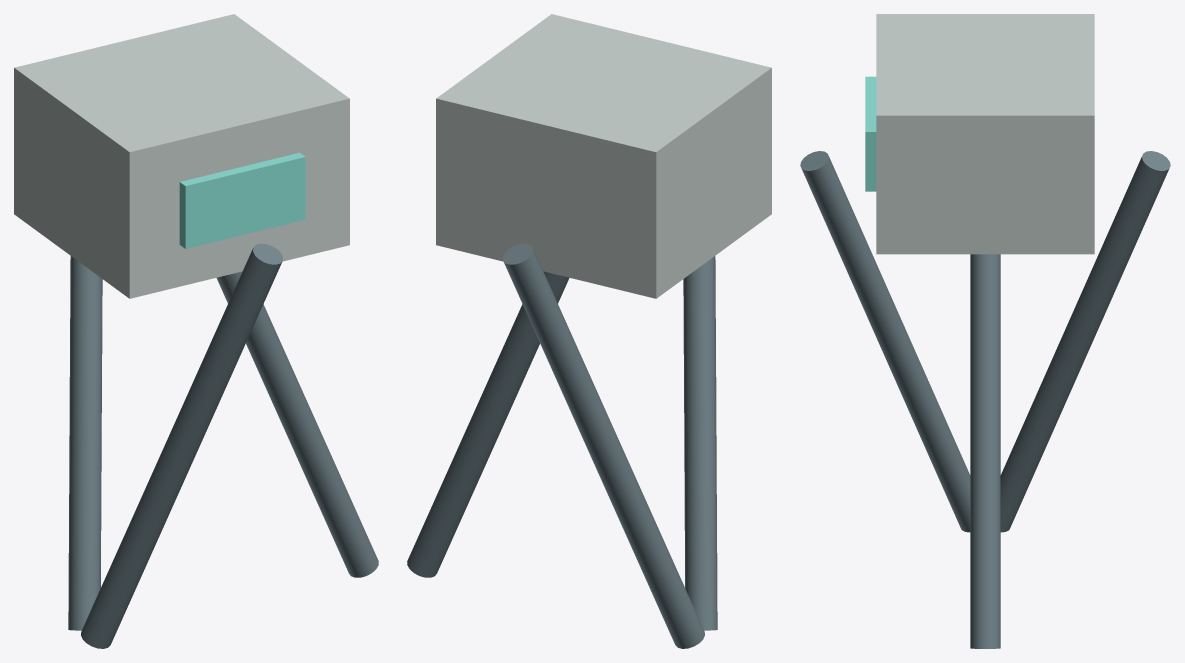
The model's file is field-probe.glb.
The picture shows the model from 3 angles, left to right: view 1: azimuth 30°, elevation 25°; view 2: azimuth 150°, elevation 25°; view 3: azimuth 270°, elevation 25°; orthographic projection. The views are drawn at different scales.
Visible parts, largest first — view 1: sensor_head, leg (×3), sensor_window; view 2: sensor_head, leg (×3); view 3: sensor_head, leg (×3), sensor_window.
Boxes of the visible parts, bbox=[...] form: sensor_head: bbox=[14, 14, 349, 298]; leg (×3): bbox=[68, 243, 378, 648]; sensor_window: bbox=[179, 152, 305, 248]; sensor_head: bbox=[436, 14, 771, 298]; leg (×3): bbox=[407, 243, 717, 648]; sensor_head: bbox=[876, 14, 1094, 254]; leg (×3): bbox=[800, 151, 1170, 648]; sensor_window: bbox=[865, 76, 876, 191].
Bounding box in the file's own units: 0.7614 × 1.28 × 0.8476.
